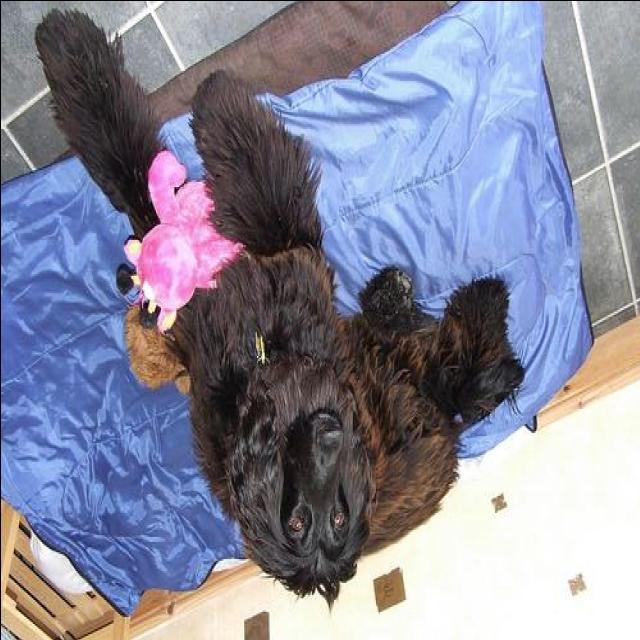afghan_hound: (34, 7, 528, 611)
